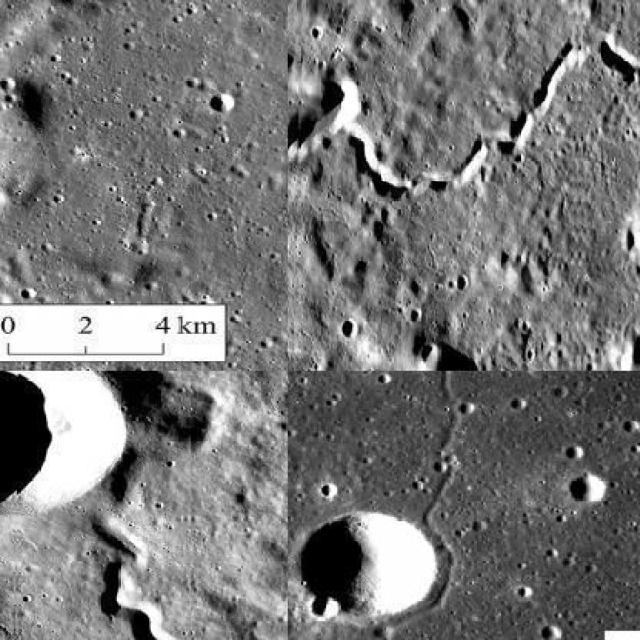rille: (383, 371, 639, 632), (287, 15, 638, 198), (82, 514, 286, 638)
